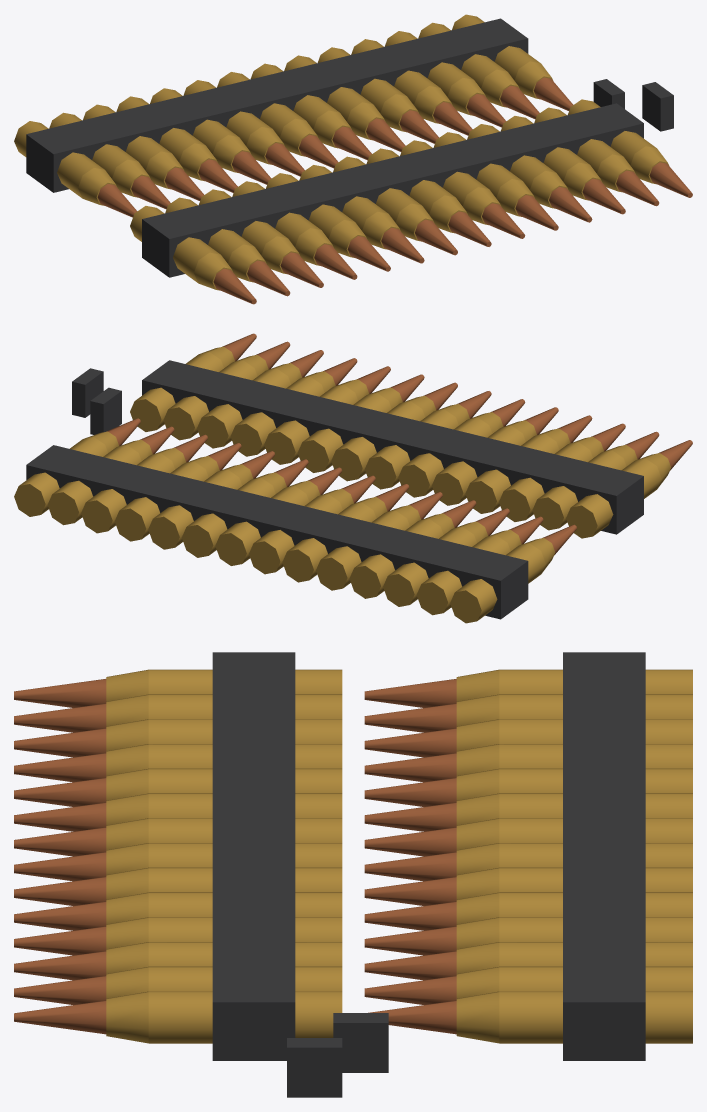
File: belt-m240b.glb
3 views of the same model, one above another, from view 1: azimuth 30°, elevation 25°; view 2: azimuth 150°, elevation 25°; view 3: azimuth 270°, elevation 25° (orthographic). The views are drawn at different scales.
Parts seen in each view (by area): view 1: belt-m240b; view 2: belt-m240b; view 3: belt-m240b.
Boxes of the visible parts, box(x1,y1,x2,y2) form: belt-m240b: box(14, 14, 692, 304); belt-m240b: box(14, 333, 692, 623); belt-m240b: box(14, 652, 692, 1097).
Size of the model in its own units: 0.2003 by 0.014 by 0.1472.
1 material, 1 textured.
